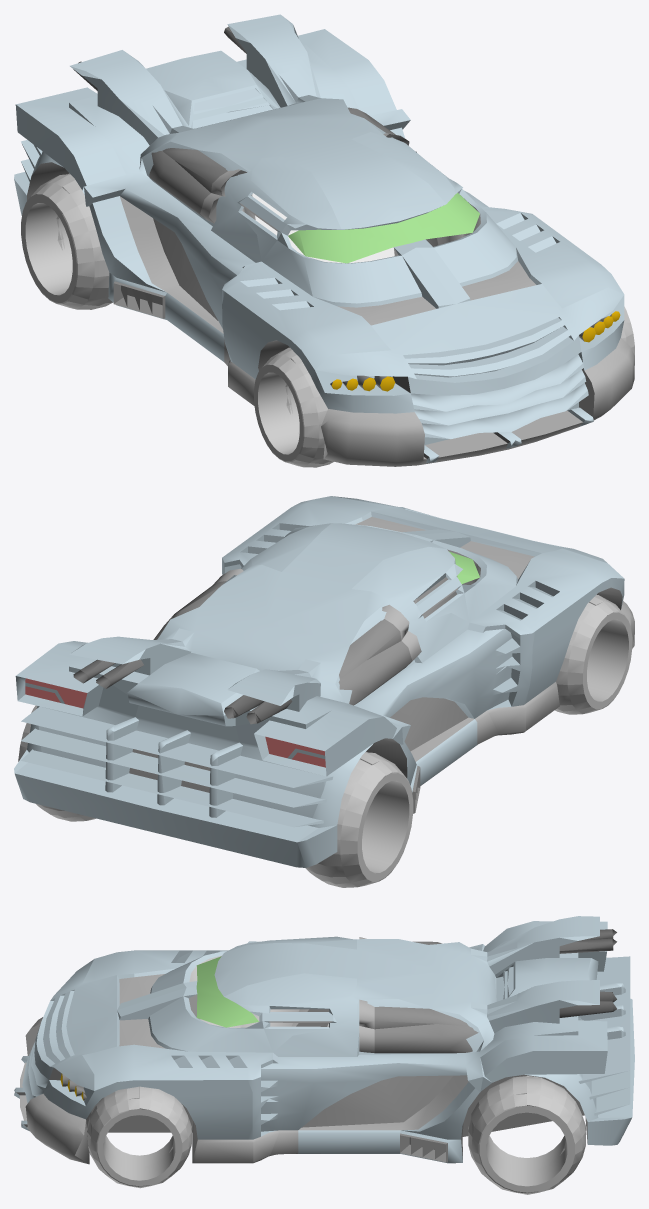
Rendered from agera.FBX.
The picture shows the model from 3 angles, top to bottom: view 1: azimuth 30°, elevation 25°; view 2: azimuth 150°, elevation 25°; view 3: azimuth 270°, elevation 25°; orthographic projection. The views are drawn at different scales.
Visible parts, largest first — view 1: agera, G_Llanta006, G_Llanta005; view 2: agera, G_Llanta006, G_Llanta005, G_Llanta008; view 3: agera, G_Llanta008, G_Llanta007.
Boxes of the visible parts, x1=… form: agera: x1=14, y1=14, x2=634, y2=466; G_Llanta006: x1=21, y1=173, x2=112, y2=309; G_Llanta005: x1=254, y1=347, x2=333, y2=467; agera: x1=14, y1=496, x2=634, y2=867; G_Llanta006: x1=305, y1=751, x2=413, y2=887; G_Llanta005: x1=555, y1=594, x2=632, y2=714; G_Llanta008: x1=18, y1=705, x2=95, y2=821; agera: x1=14, y1=916, x2=634, y2=1164; G_Llanta008: x1=468, y1=1076, x2=585, y2=1194; G_Llanta007: x1=87, y1=1086, x2=191, y2=1188.
Bounding box in the file's own units: 2.33 × 1.33 × 4.3.
